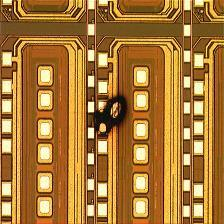PIQ PARTICLE: (92, 92, 131, 140)
